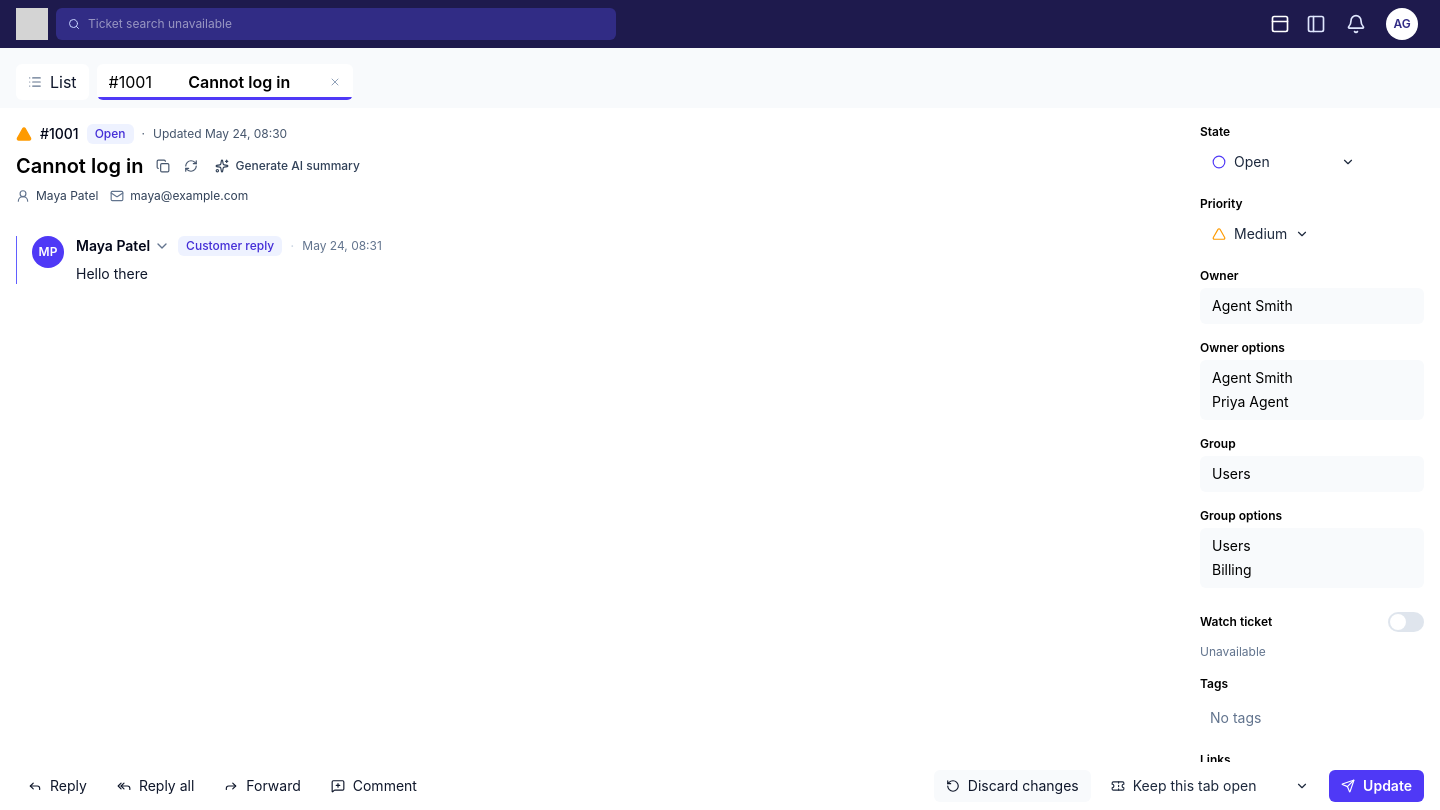
it: TicketWorkspace metadata mutations › hides provider-supplied unavailable state options
Click the dropdown named "Ticket state": point(1284, 162) [1200,144,1367,180]
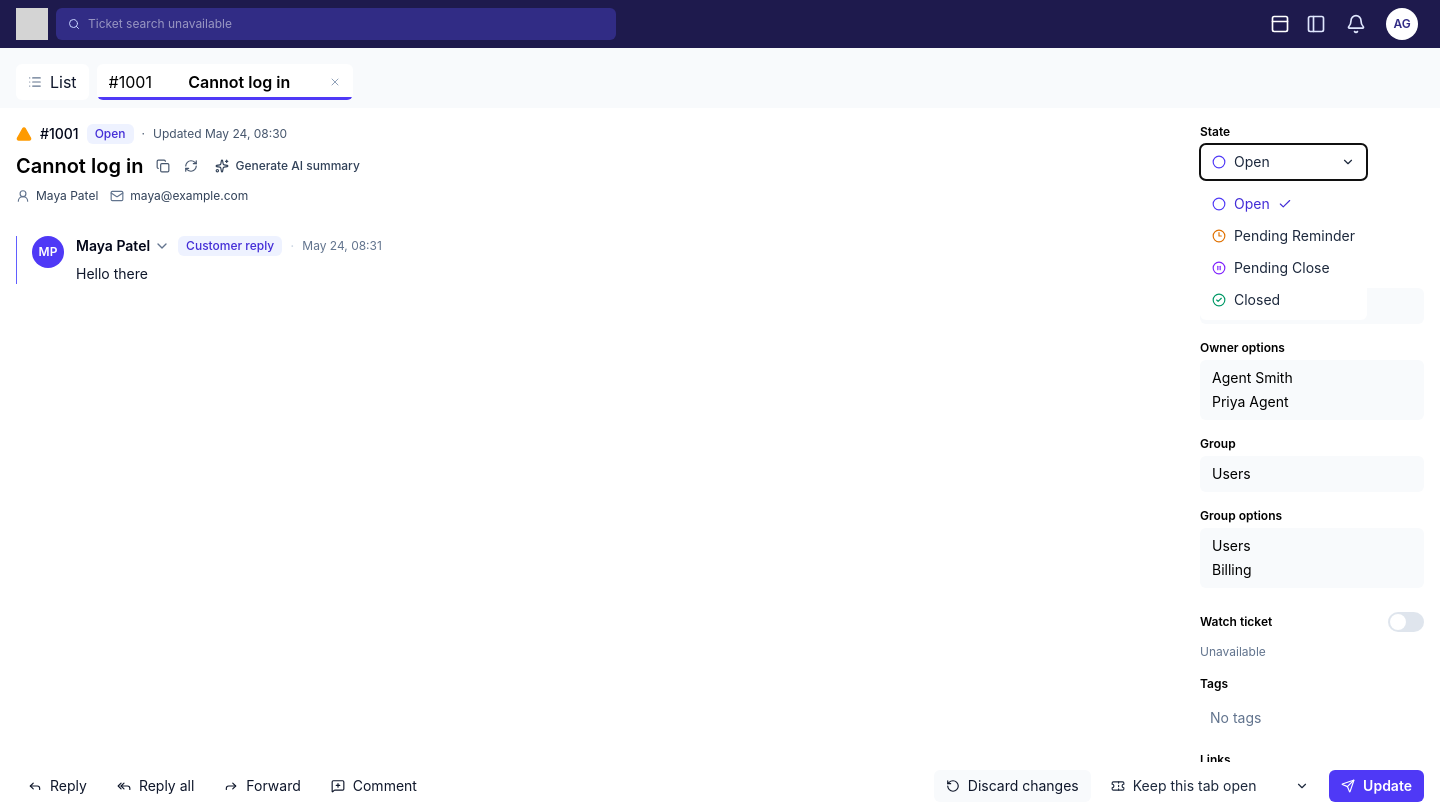
Expected: the option "Pending Reminder" is enabled, [1204,220,1363,252]
Expected: the option "Pending Close" is enabled, [1204,252,1363,284]
Expected: the option "Open" is enabled, [1204,188,1363,220]
